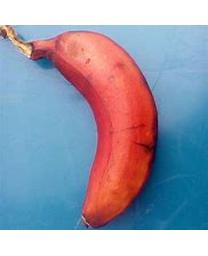banana: (1, 25, 160, 229)
